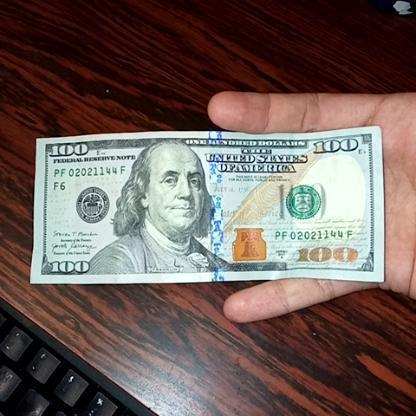dollar_front: (29, 125, 390, 289)
